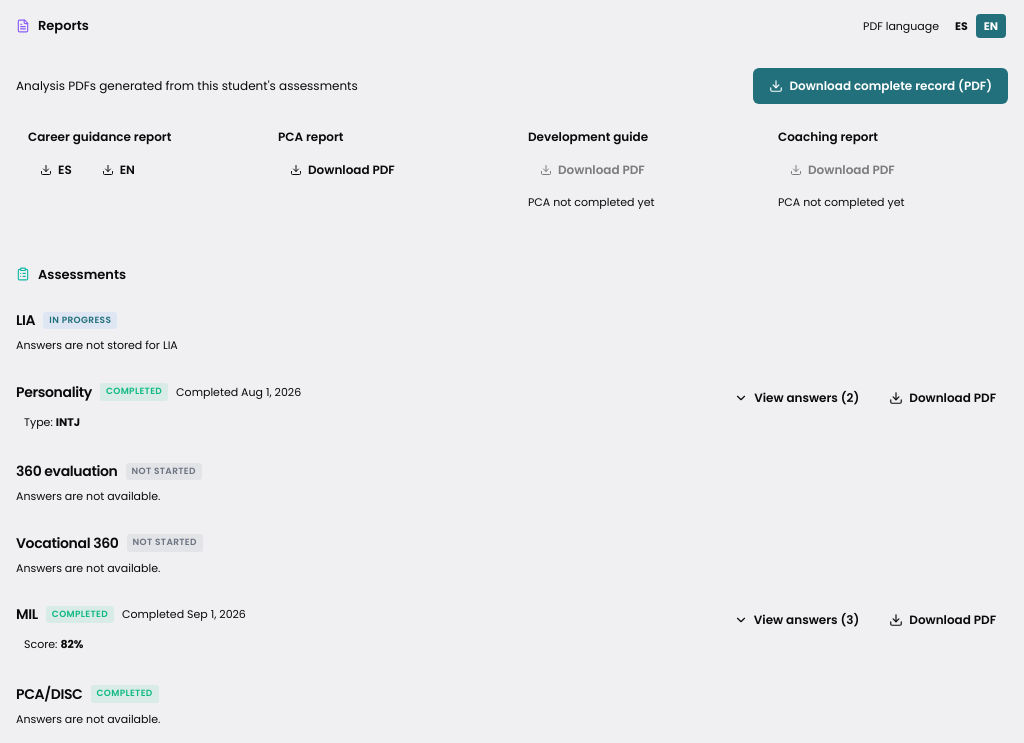
View answers lazy-loads the sections, with correct-answer and ✓/✗ columns
Click the button "View answers (3)" at (797, 620), box [722,604,871,636]
(page scrolled)
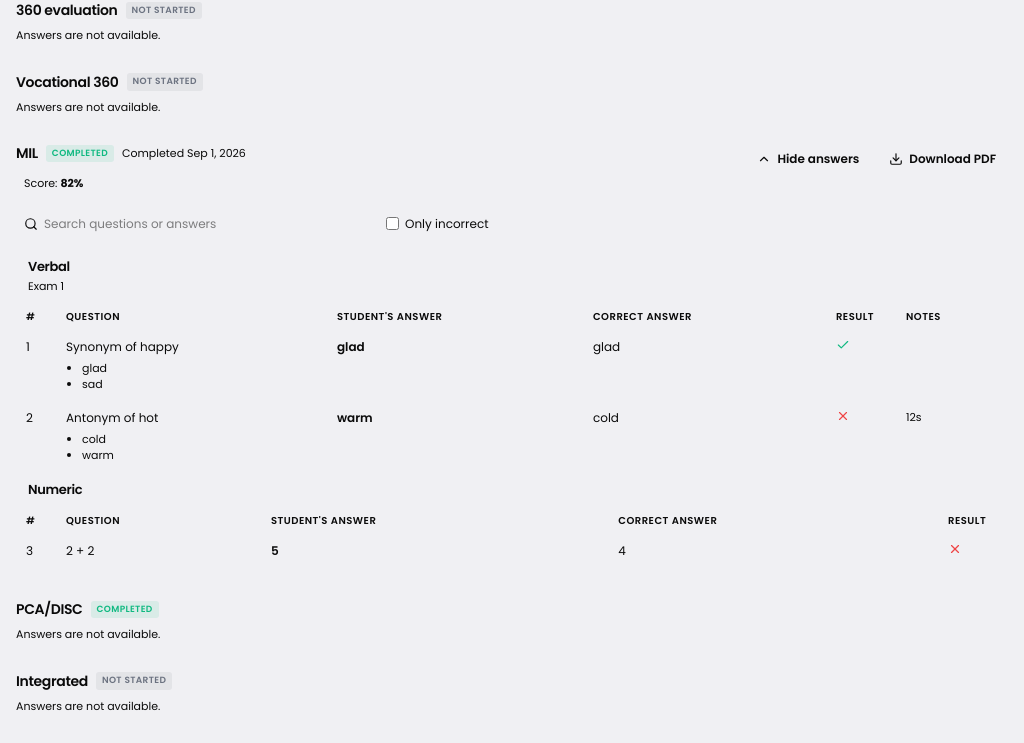
Result: the text "Synonym of happy" is shown at [66,338,179,354]
Result: the heading "Verbal" is shown at [28,256,70,276]
Result: the text "Exam 1" is shown at [28,278,64,294]
